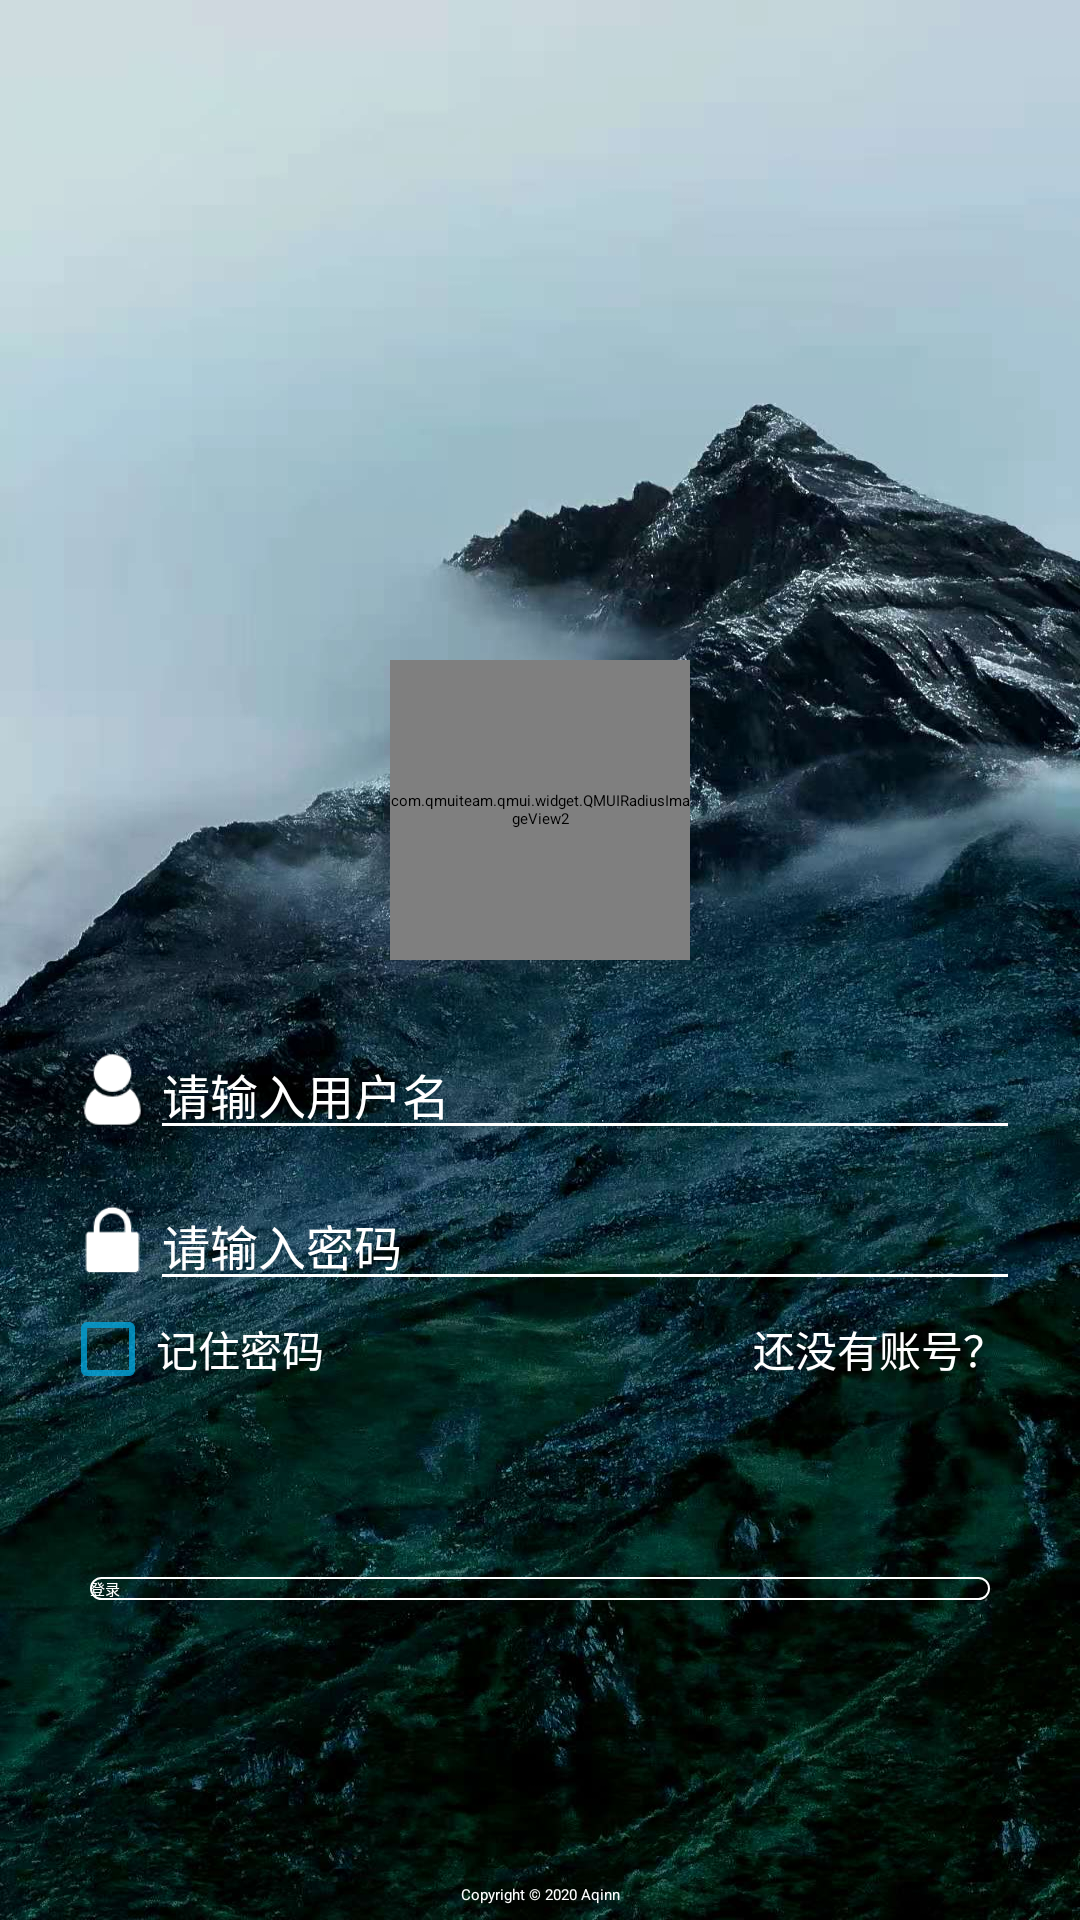

Icons on this 1080 x 1920 Android screen, each with the point to tap as [x,y]:
username: [112,1089]
